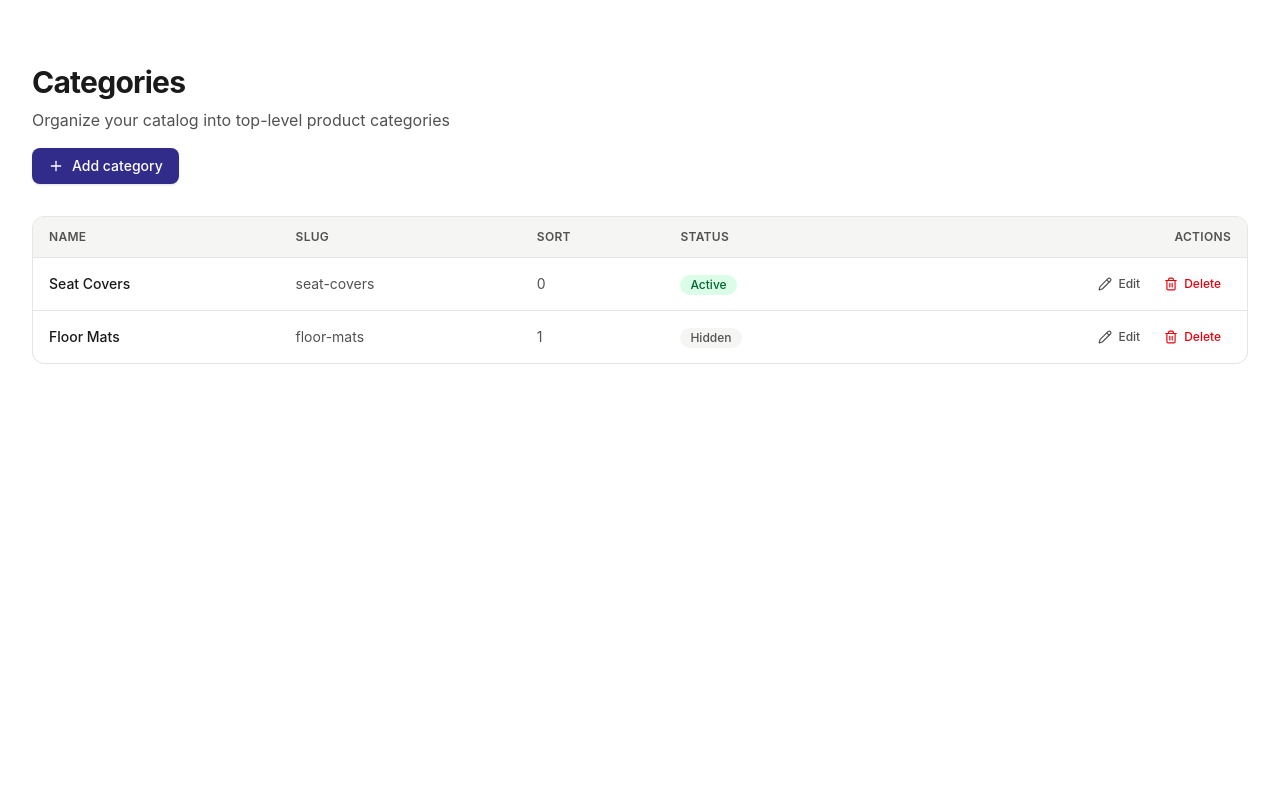
CategoriesAdminPage › edits an existing category
The image size is (1280, 800).
Expected: the text "Seat Covers" is shown, [33,258,280,310]
Click the button "Edit" in the row of "Seat Covers".
click(1119, 284)  # box [1088,270,1150,298]
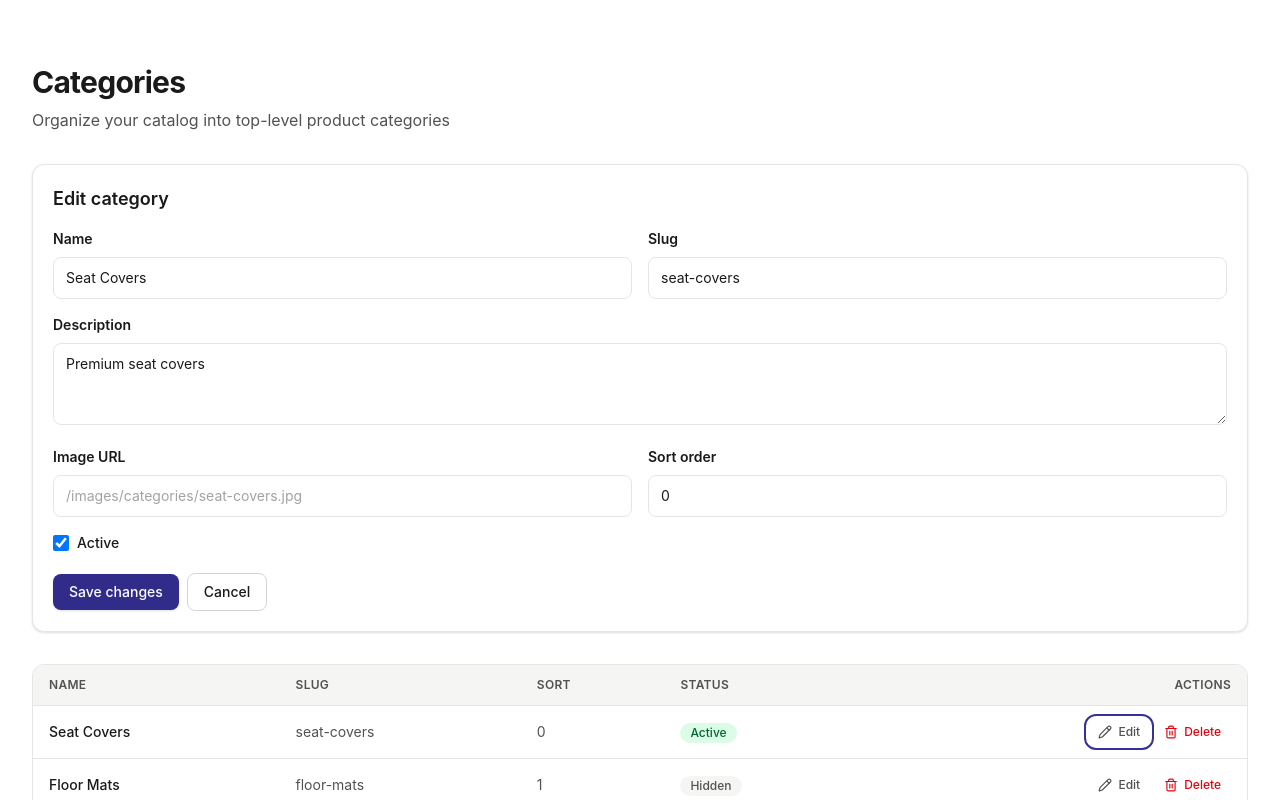
Expected: the field labelled "Name" holds "Seat Covers"
Replace the text in the field labelled "Name" with "Seat Covers Pro" at coordinates (342, 278), box [53,257,632,299]
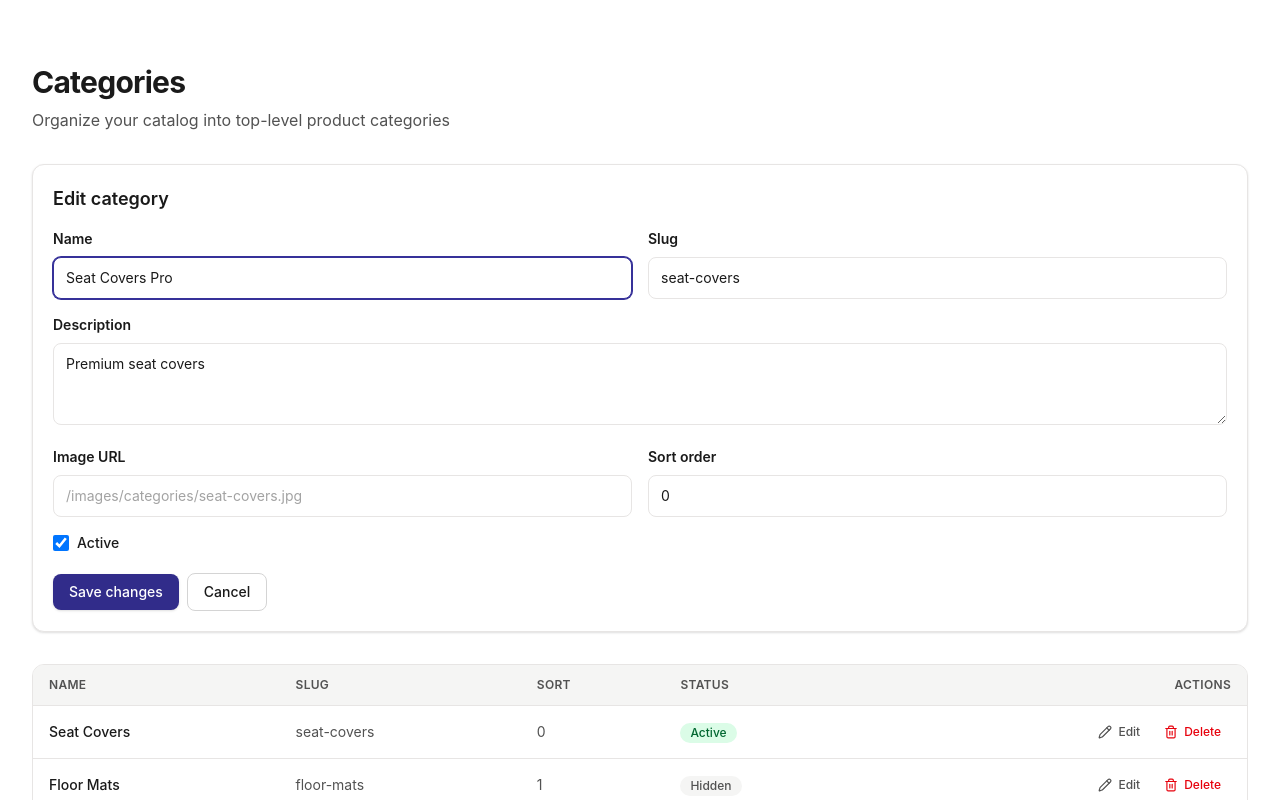
Click the button "Save changes".
click(116, 592)  # box [53,574,179,610]
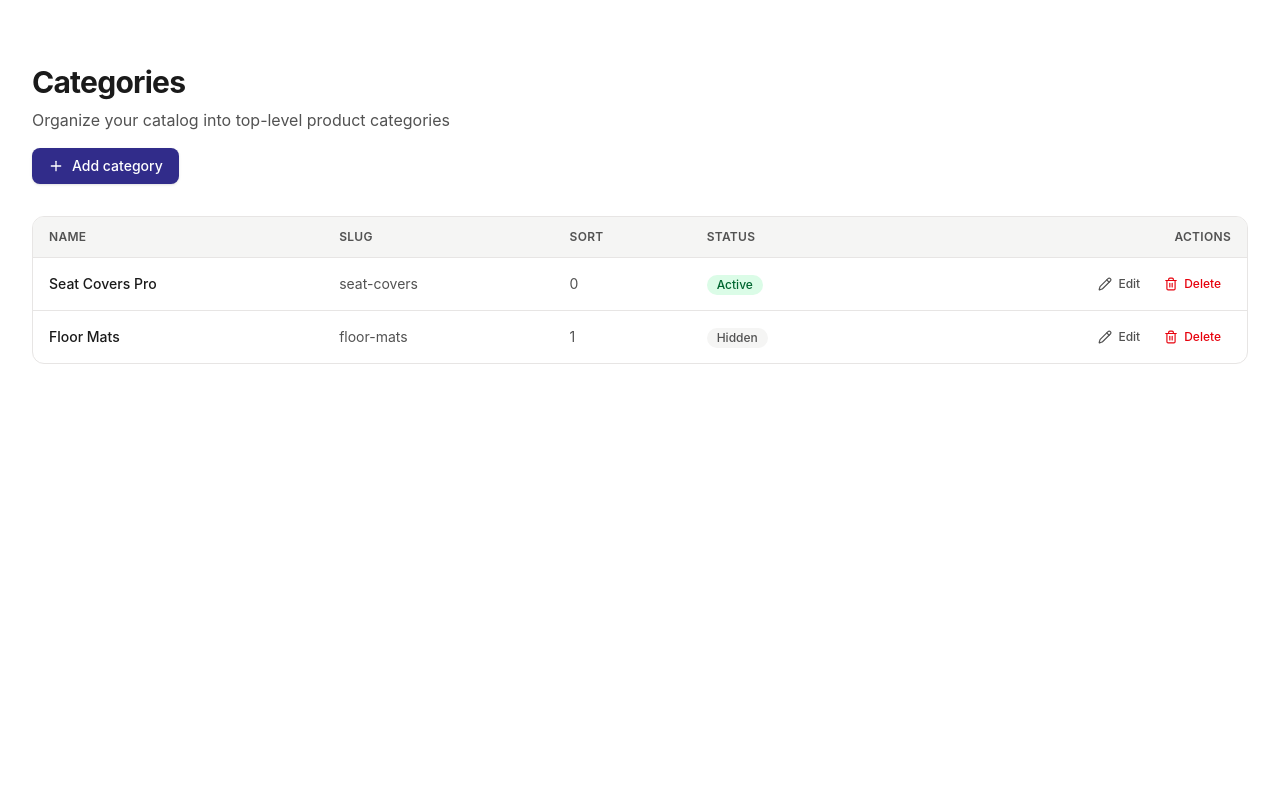
Expected: the row "Seat Covers Pro seat-covers 0 Active Edit Delete" is shown, [33,258,1247,310]
